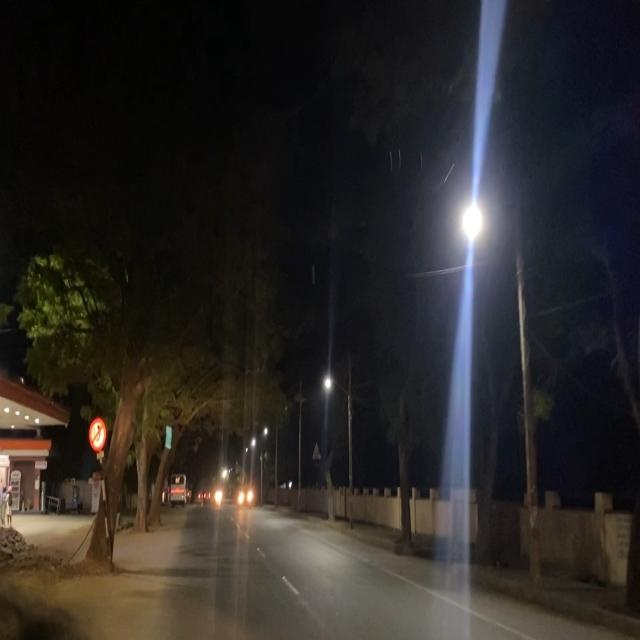bien_cam: (87, 417, 108, 453)
